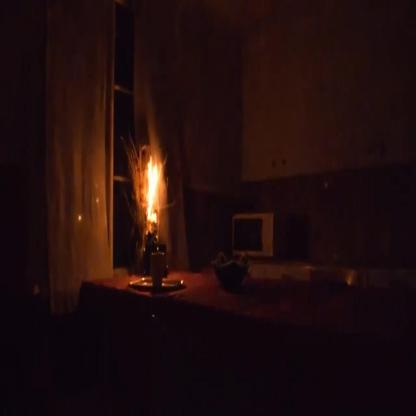fire: (144, 148, 169, 230)
